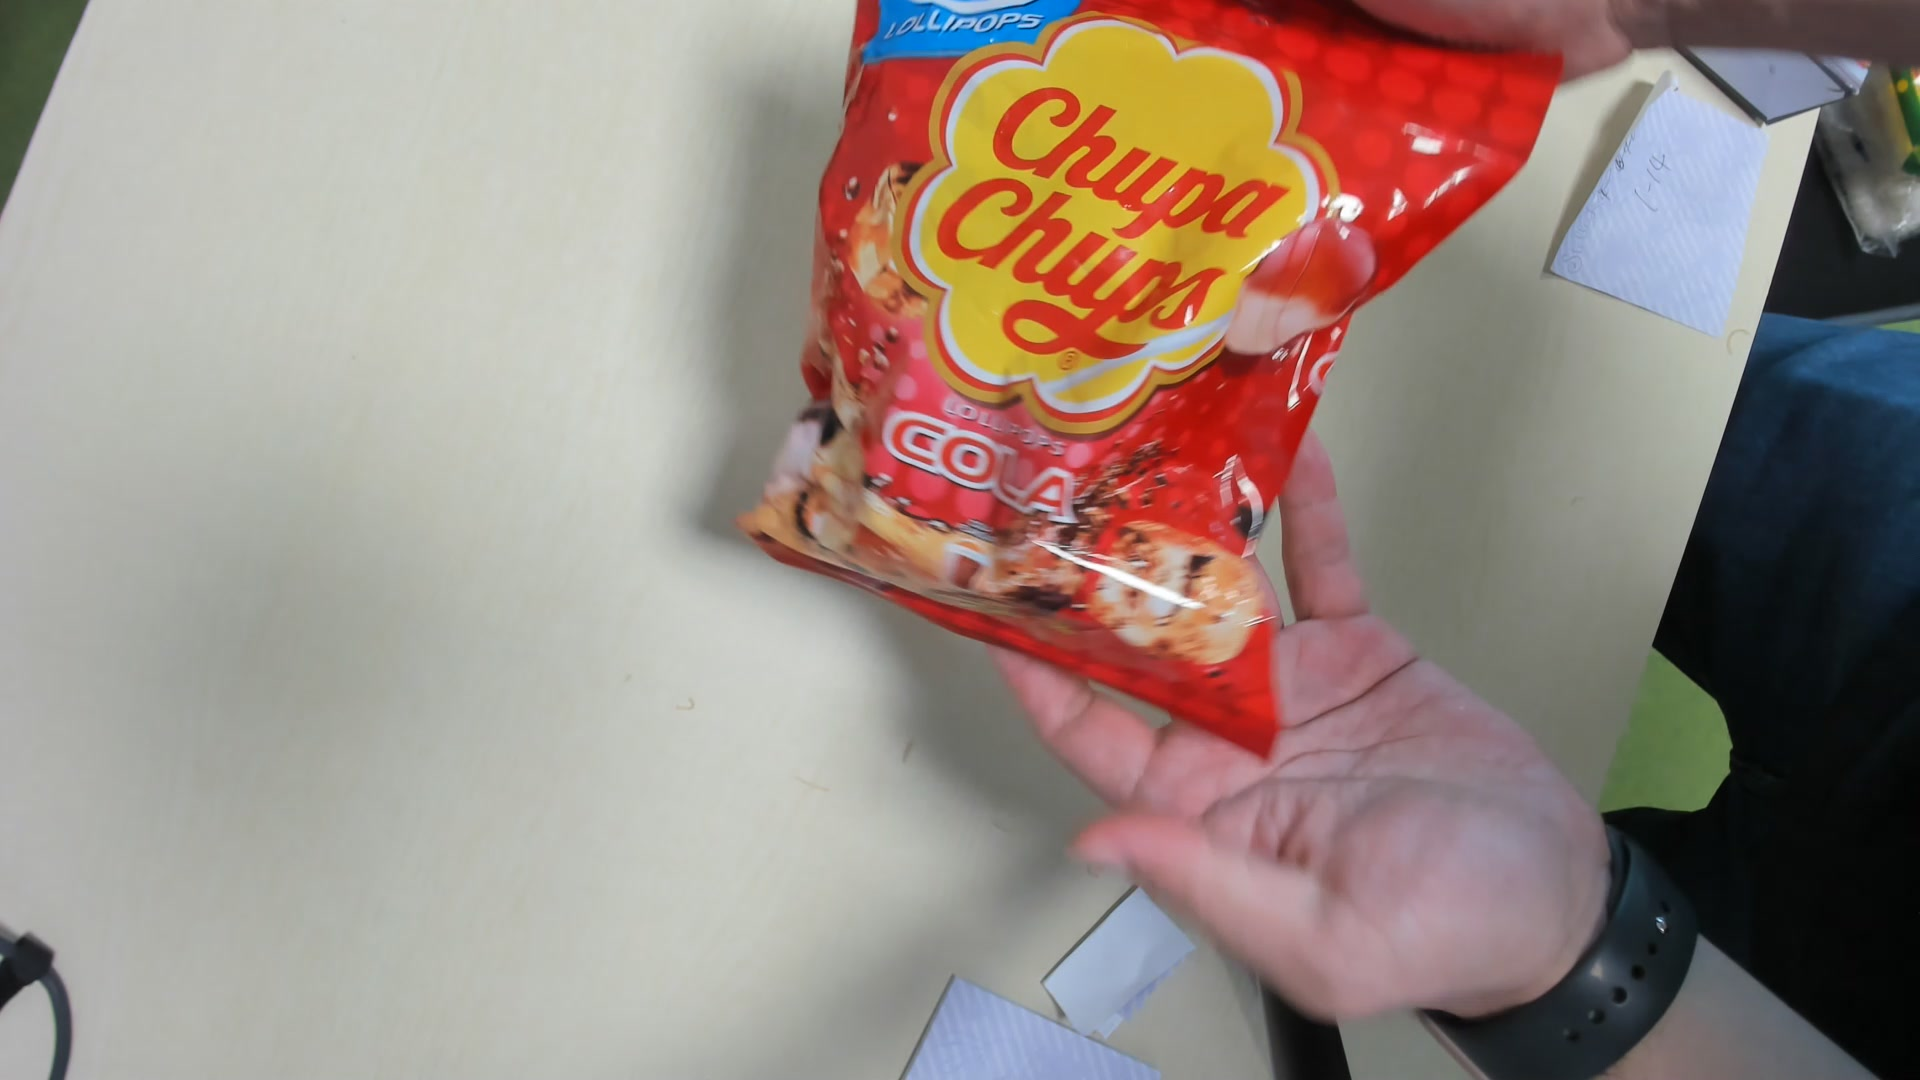SweetsChocolatesOthers_0-99g_NonHalal_Nonhealthy: (746, 1, 1553, 770)
